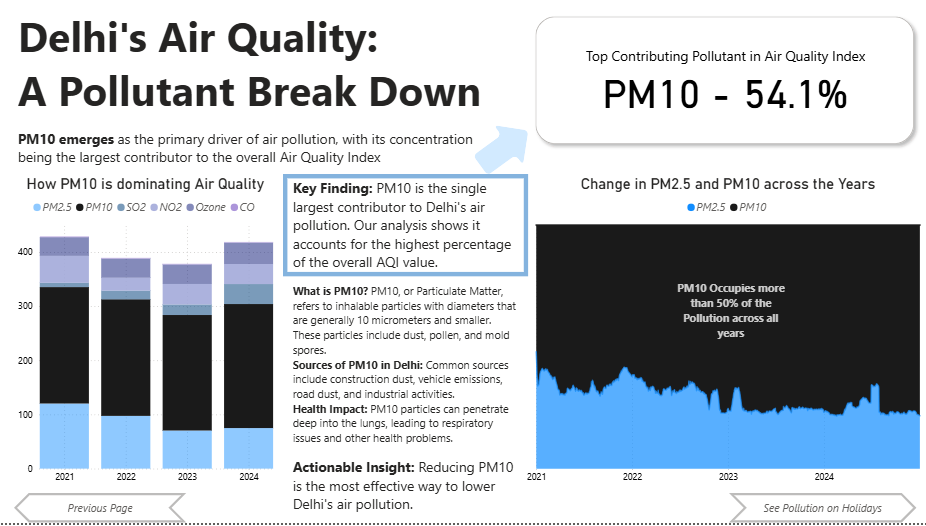

This screenshot's page, from the dashboard's own definition file:
{"tool":"powerbi","page":{"name":"Page 2","canvas":[1280,720],"ordinal":1},"visuals":[{"type":"columnChart","title":"How PM10 is dominating Air Quality","fields":{"Category":["final_dataset.Date.Variation.Date Hierarchy.Year","final_dataset.Date.Variation.Date Hierarchy.Quarter","final_dataset.Date.Variation.Date Hierarchy.Month","final_dataset.Date.Variation.Date Hierarchy.Day"],"Y":["Avg(final_dataset.PM2.5)","Avg(final_dataset.PM10)","Avg(final_dataset.SO2)","Avg(final_dataset.NO2)","Avg(final_dataset.Ozone)","Avg(final_dataset.CO)"]},"box":[31.4,247.1,357.1,428.6],"z":0},{"type":"hundredPercentStackedAreaChart","title":"Change in PM2.5 and PM10 across the Years","fields":{"Category":["final_dataset.Date"],"Y":["final_dataset.PM2.5_rolling_avg30","final_dataset.PM10_rolling_avg30"]},"box":[722.9,247.1,557.1,428.6],"z":1000},{"type":"cardVisual","fields":{"Data":["final_dataset.Top Pollutant Label"]},"box":[722.9,14.3,548.6,207.1],"z":2000},{"type":"textbox","box":[31.4,14.3,661.4,232.9],"z":3000},{"type":"textbox","box":[404.3,247.1,318.6,472.9],"z":4000},{"type":"shape","box":[568.4,178.9,249.1,68.8],"z":5000},{"type":"shape","box":[396.4,246.4,333.1,139],"z":6000},{"type":"actionButton","box":[1002,679.9,254.6,39.9],"z":6001},{"type":"actionButton","box":[31.7,679.9,234,39.9],"z":6002},{"type":"textbox","box":[916.6,385.4,176.2,97.7],"z":6003}]}

Visuals, with their boxes in screenshot pixels (x1, y1, x2, y2), scaled from the page's 1280x720 canvas onto the 926x526 screenshot:
"How PM10 is dominating Air Quality" columnChart: <bbox>23, 181, 281, 494</bbox>
"Change in PM2.5 and PM10 across the Years" hundredPercentStackedAreaChart: <bbox>523, 181, 925, 494</bbox>
cardVisual - final_dataset.Top Pollutant Label: <bbox>523, 10, 920, 162</bbox>
textbox: <bbox>23, 10, 501, 181</bbox>
textbox: <bbox>292, 181, 523, 525</bbox>
shape: <bbox>411, 131, 591, 181</bbox>
shape: <bbox>287, 180, 528, 282</bbox>
actionButton: <bbox>725, 497, 909, 525</bbox>
actionButton: <bbox>23, 497, 192, 525</bbox>
textbox: <bbox>663, 282, 791, 353</bbox>
